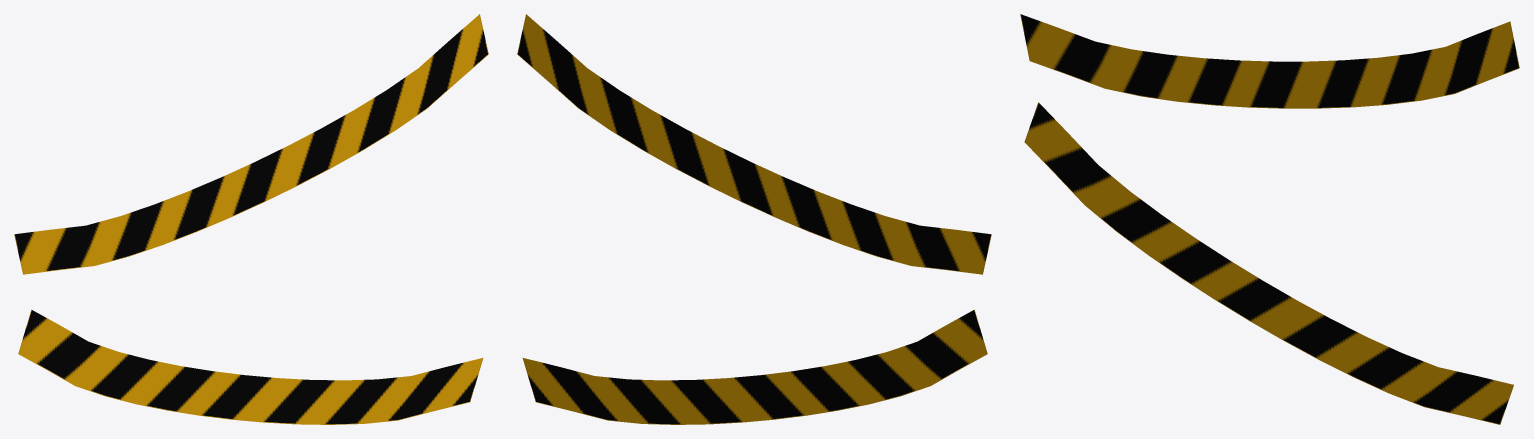
The model's file is tasma_drzwi.fbx.
The picture shows the model from 3 angles, left to right: view 1: azimuth 30°, elevation 25°; view 2: azimuth 150°, elevation 25°; view 3: azimuth 330°, elevation 25°; orthographic projection. The views are drawn at different scales.
Visible parts, largest first — view 1: Plane; view 2: Plane; view 3: Plane.
Part boxes in pixels (left/top/right/bottom): Plane: left=14, top=14, right=488, bottom=424; Plane: left=517, top=14, right=991, bottom=424; Plane: left=1020, top=14, right=1519, bottom=424.
Size of the model in its own units: 244 by 190 by 2.36e-05.
